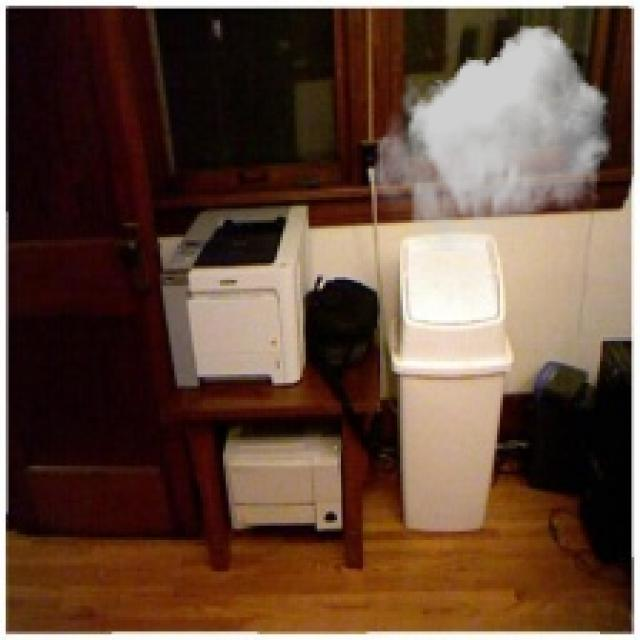smoke: (374, 26, 612, 251)
